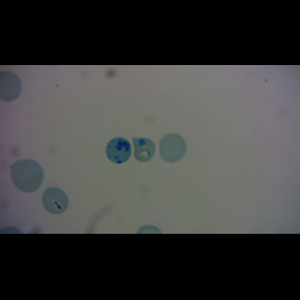aggregate reticulocyte: (105, 136, 133, 164)
erythrocyte: (8, 158, 44, 193), (158, 132, 188, 163), (42, 187, 68, 214), (131, 137, 157, 163)
